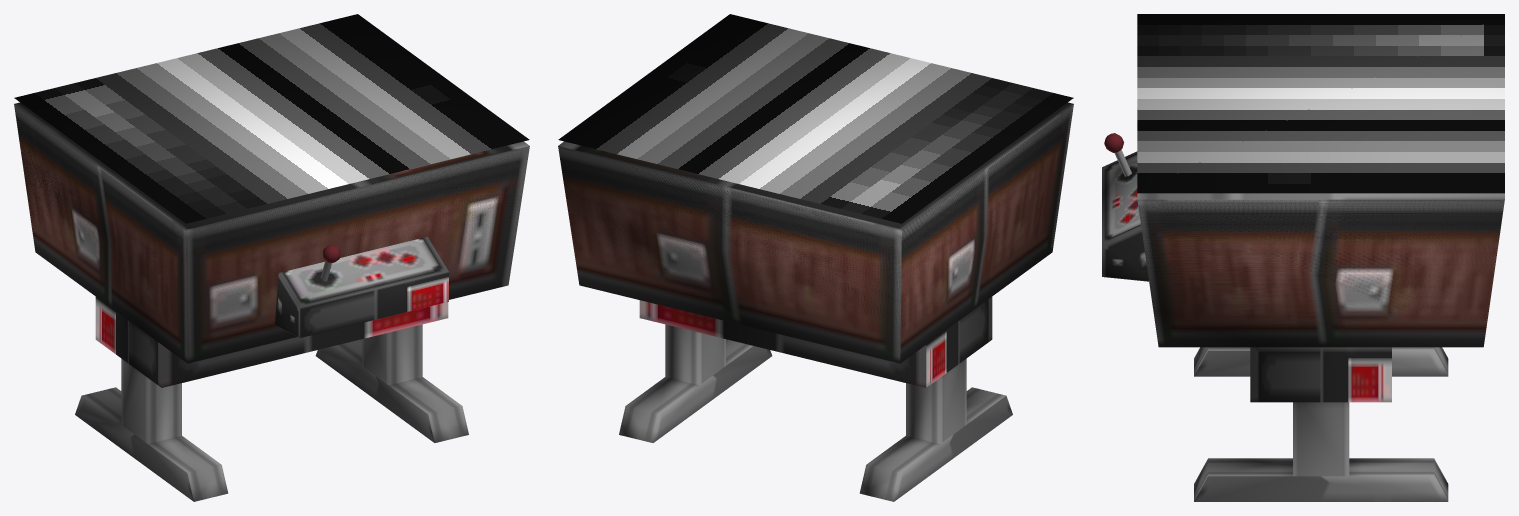
The model's file is int_oth_game_tableS.dae.
3 renders of one model, left to right at view 1: azimuth 30°, elevation 25°; view 2: azimuth 150°, elevation 25°; view 3: azimuth 270°, elevation 25°, orthographic. The views are drawn at different scales.
Parts seen in each view (by area): view 1: int_oth_game_tableS; view 2: int_oth_game_tableS; view 3: int_oth_game_tableS.
Boxes of the visible parts, bbox=[...] form: int_oth_game_tableS: bbox=[14, 14, 529, 501]; int_oth_game_tableS: bbox=[558, 14, 1073, 501]; int_oth_game_tableS: bbox=[1102, 14, 1504, 501].
Bounding box in the file's own units: 30 × 25.5 × 28.5.
Materials: 3 (3 with a texture image).
